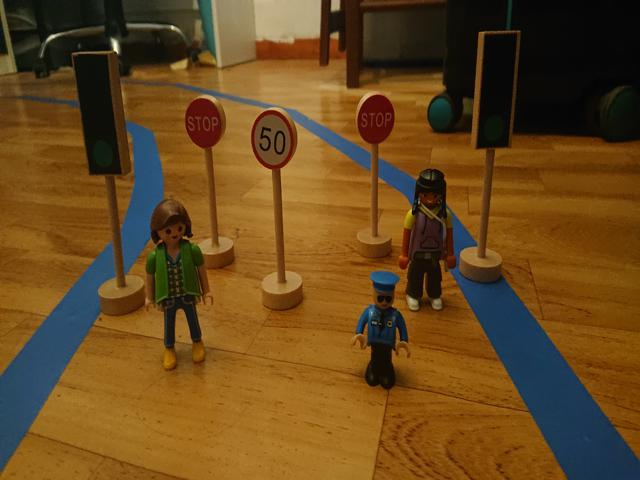50 speed sign: (249, 110, 294, 170)
green light: (79, 57, 117, 174), (482, 41, 513, 144)
person: (143, 200, 213, 371), (401, 169, 455, 315), (350, 269, 409, 391)
stop sign: (183, 94, 224, 149), (354, 93, 396, 143)
